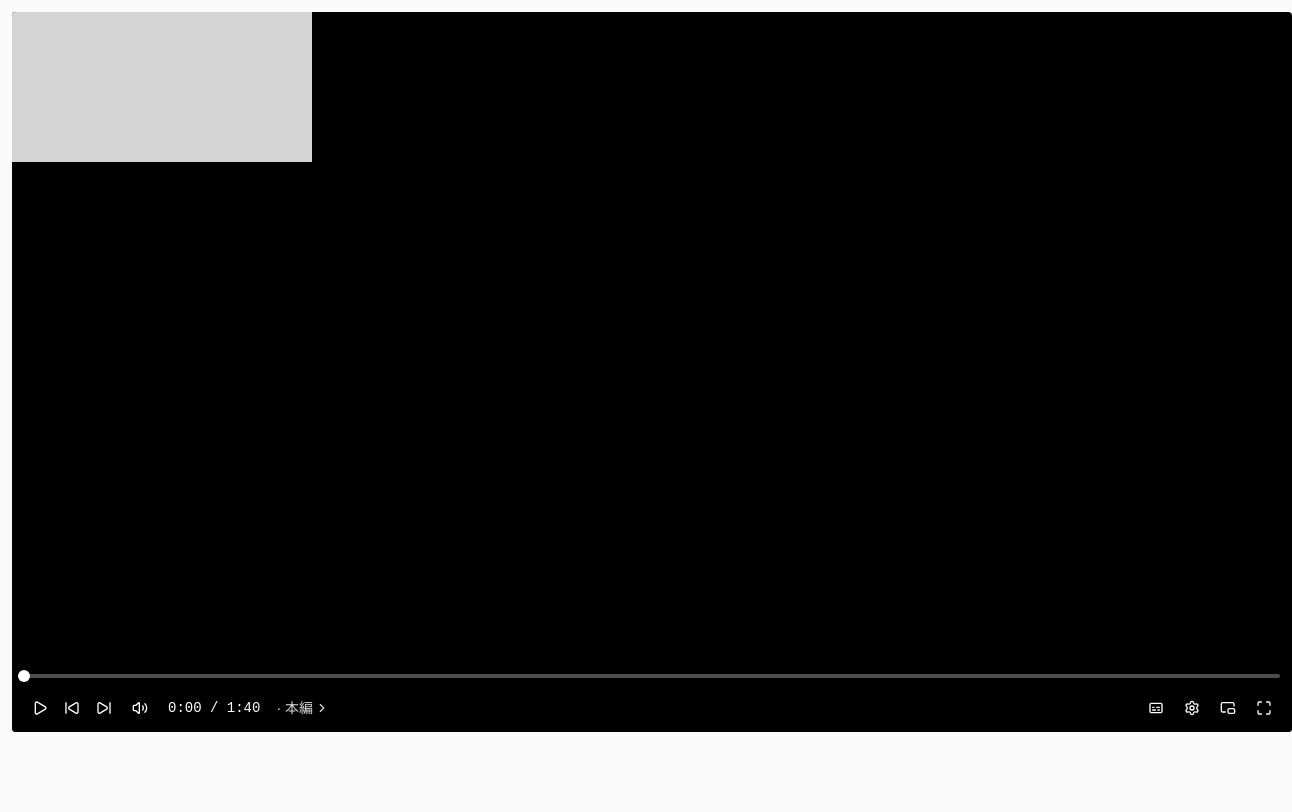
Test: 速度メニュー行 › チャプター一覧と再生バーの区間表示は共通の再生時刻書式を使う
Click the button named "再生設定" at (1192,708), box [1176,692,1208,724]
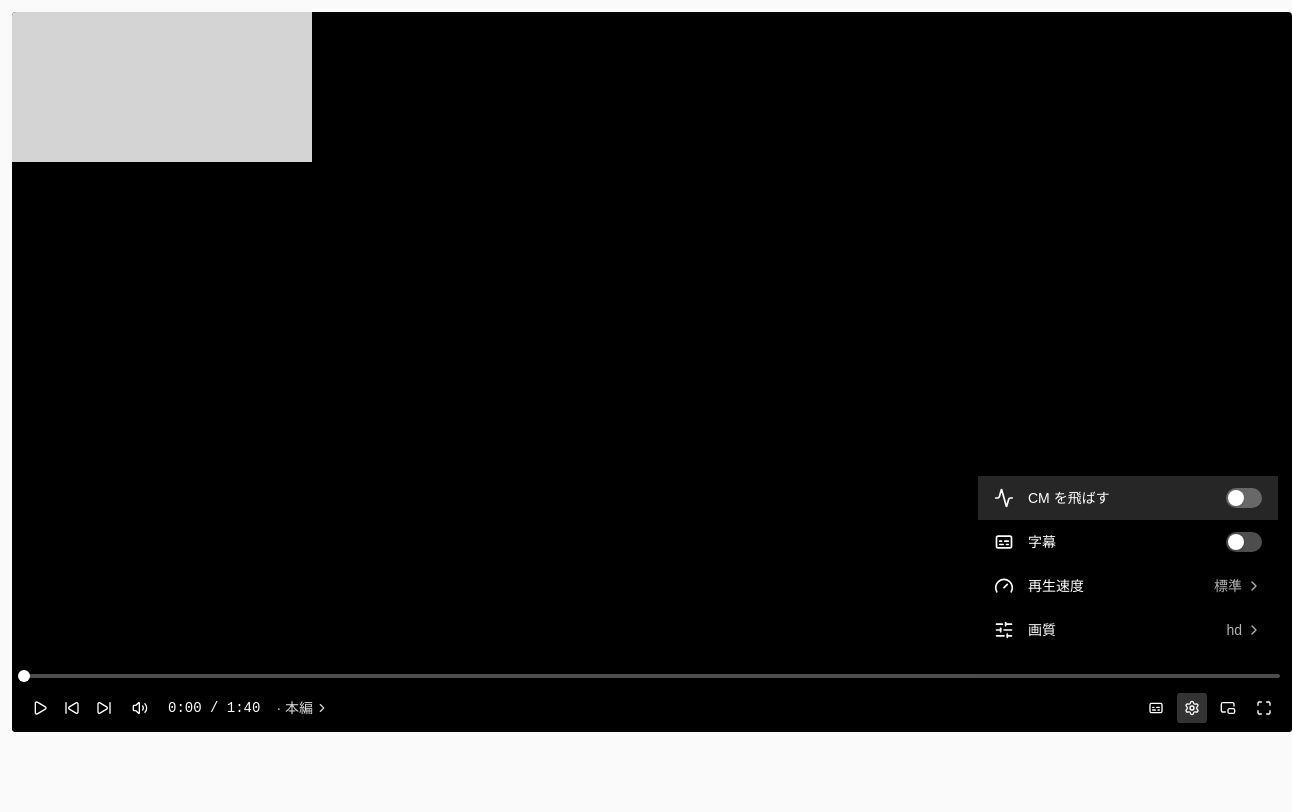
Click the button with aria-label "チャプター: 本編" at (303,708), box [272,692,333,724]
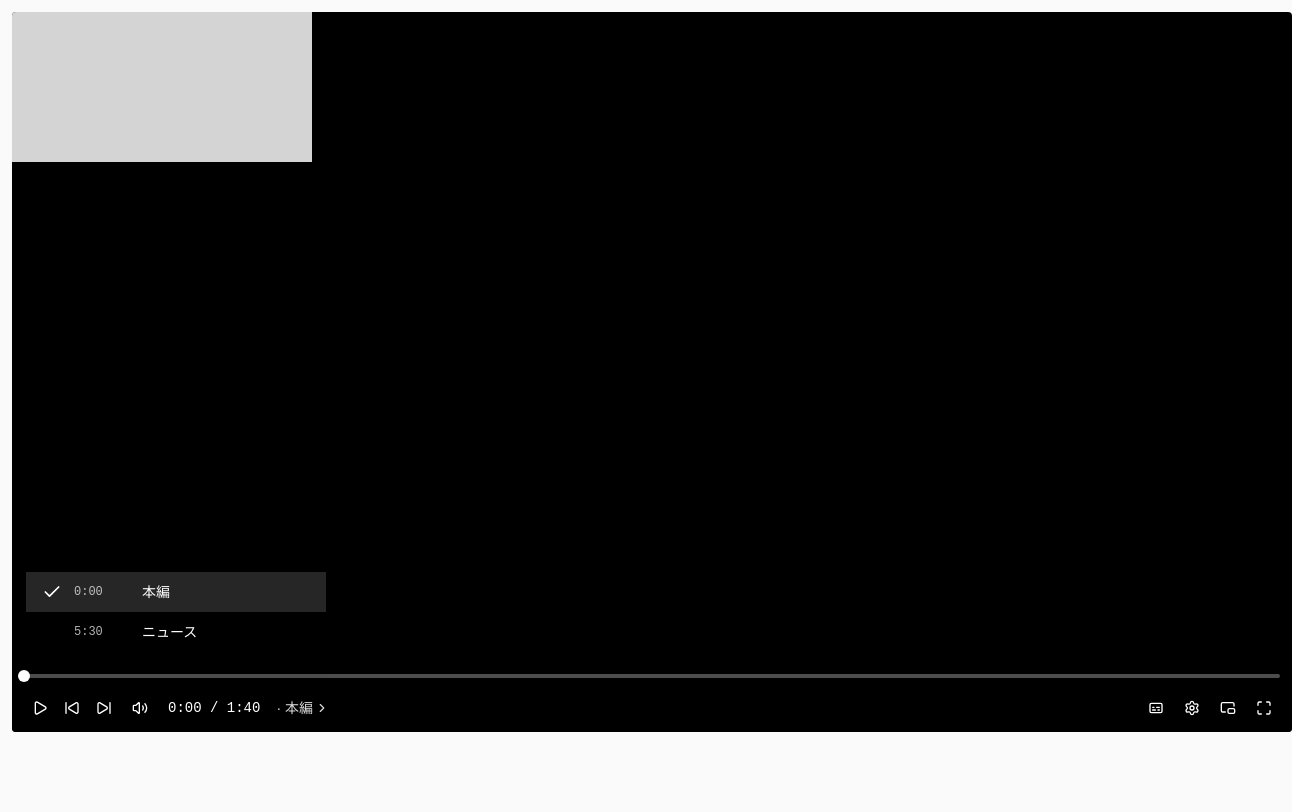
Result: the menu item "5:30 ニュース" is shown at [26,612,326,652]
